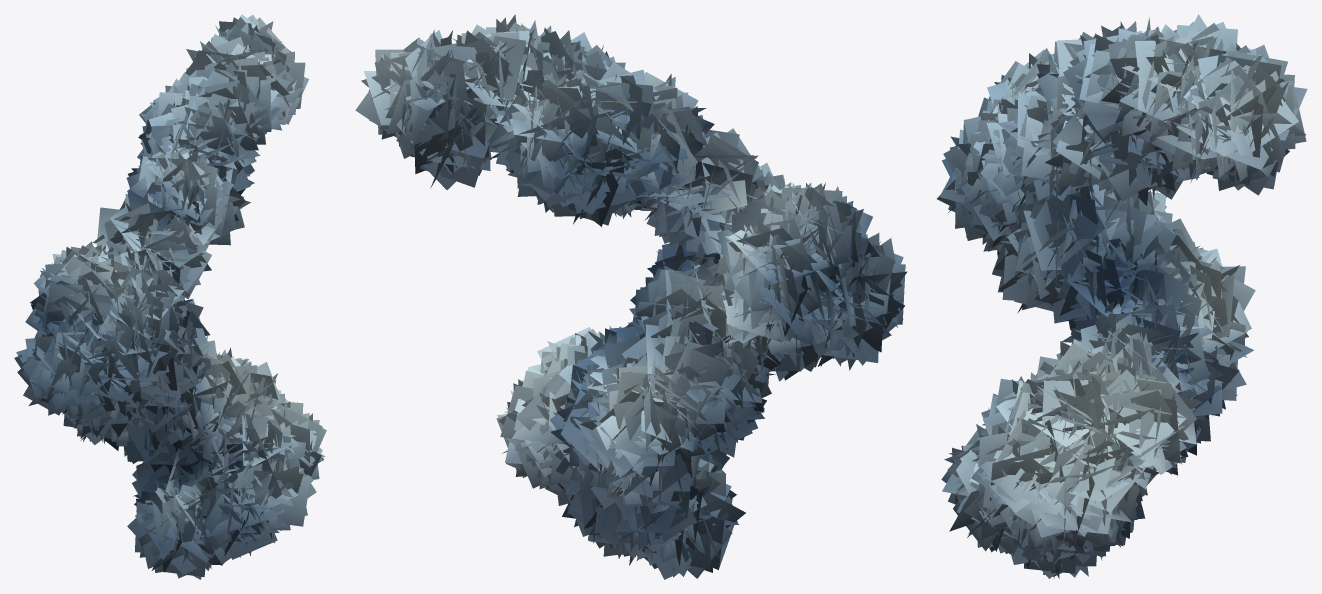
The model's file is cloudscape02_max.FBX.
The picture shows the model from 3 angles, left to right: view 1: azimuth 30°, elevation 25°; view 2: azimuth 150°, elevation 25°; view 3: azimuth 270°, elevation 25°; orthographic projection. The views are drawn at different scales.
Parts seen in each view (by area): view 1: Plane001; view 2: Plane001; view 3: Plane001.
Part boxes in pixels (x1,y1,x2,y2): Plane001: (14, 14, 326, 579); Plane001: (355, 14, 907, 579); Plane001: (937, 14, 1307, 578).
Bounding box in the file's own units: 12.27 × 8.73 × 15.51.
